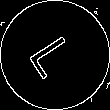L_NE: (25, 28, 85, 82)
